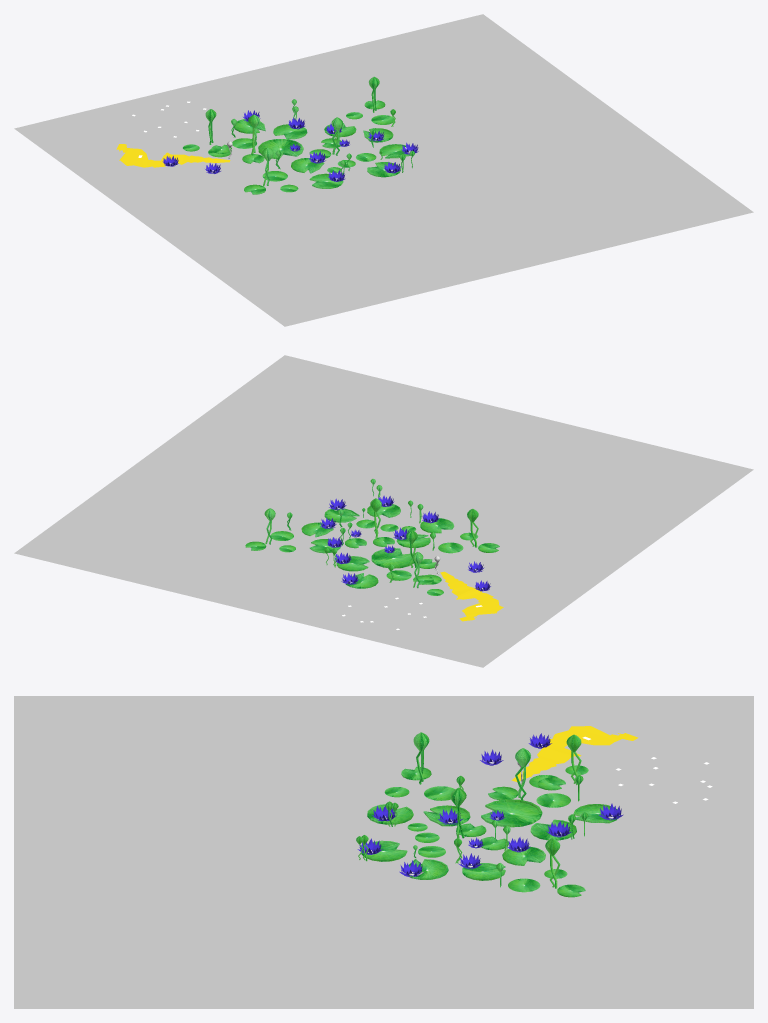
The model's file is anime_like_waterbody.glb.
3 views of the same model, one above another, from view 1: azimuth 30°, elevation 25°; view 2: azimuth 150°, elevation 25°; view 3: azimuth 270°, elevation 25° (orthographic). The views are drawn at different scales.
Visible parts, largest first — view 1: Plane.280, Plane.210, Plane.329, Circle.042; view 2: Plane.280, Plane.210, Plane.329, Circle.042; view 3: Plane.280, Plane.210, Plane.329, Circle.042, Circle.027, Circle, Circle.001, Circle.028, Circle.010, Circle.018, Circle.019.
Part boxes in pixels (x1,y1,x2,y2): Plane.280: (14, 14, 753, 326); Plane.210: (162, 110, 418, 181); Plane.329: (116, 144, 230, 167); Circle.042: (258, 139, 303, 159); Plane.280: (14, 355, 753, 667); Plane.210: (320, 495, 490, 591); Plane.329: (440, 571, 503, 621); Circle.042: (371, 548, 413, 568); Plane.280: (14, 696, 753, 1008); Plane.210: (357, 733, 623, 877); Plane.329: (511, 726, 638, 781); Circle.042: (481, 799, 542, 827); Circle.027: (502, 846, 545, 865); Circle: (361, 840, 407, 861); Circle.001: (408, 859, 448, 879); Circle.028: (462, 863, 505, 880); Circle.010: (423, 805, 470, 826); Circle.018: (530, 819, 576, 840); Circle.019: (573, 804, 619, 823).
Bounding box in the file's own units: 31.72 × 2.58 × 31.72.
Materials: 7 (3 with a texture image).
